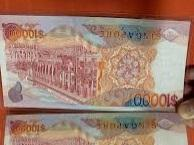10000SingaporeDollar: (2, 21, 183, 107)
